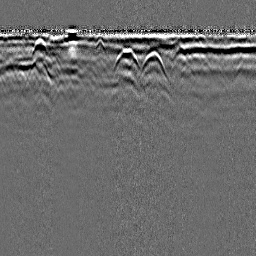cavity: (112, 46, 141, 72)
